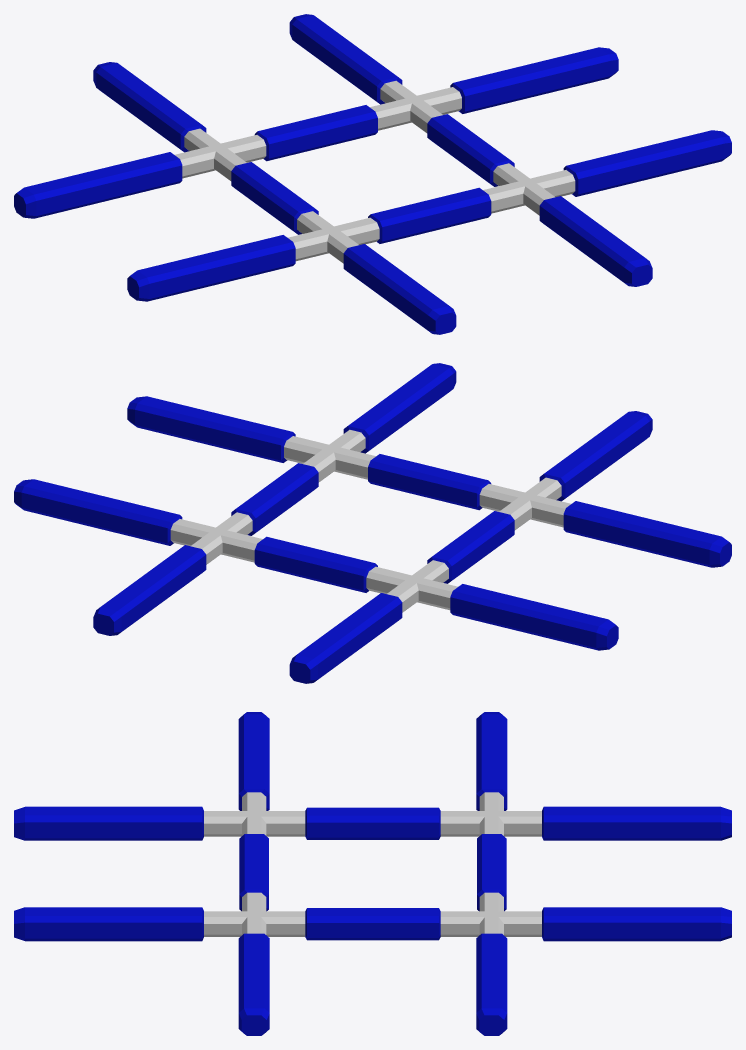
The model's file is plate.fbx.
3 views of the same model, one above another, from view 1: azimuth 30°, elevation 25°; view 2: azimuth 150°, elevation 25°; view 3: azimuth 270°, elevation 25° (orthographic). The views are drawn at different scales.
Parts seen in each view (by area): view 1: Plate; view 2: Plate; view 3: Plate.
Boxes of the visible parts, bbox=[...] form: Plate: bbox=[14, 14, 731, 334]; Plate: bbox=[14, 363, 731, 683]; Plate: bbox=[14, 712, 731, 1035].
Bounding box in the file's own units: 876 × 34.07 × 876.
